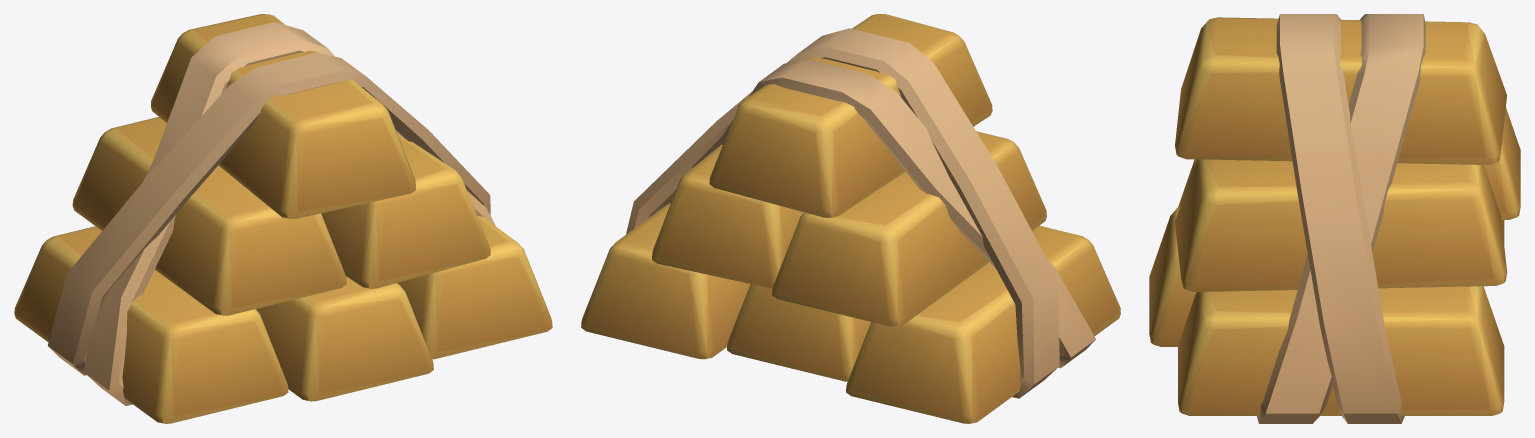
File: gold-bars.glb
3 views of the same model, side by side, from view 1: azimuth 30°, elevation 25°; view 2: azimuth 150°, elevation 25°; view 3: azimuth 270°, elevation 25° (orthographic). The views are drawn at different scales.
Visible parts, largest first — view 1: Gold_Bars; view 2: Gold_Bars; view 3: Gold_Bars.
Part boxes in pixels (x1,y1,x2,y2): Gold_Bars: [14, 14, 552, 423]; Gold_Bars: [581, 14, 1120, 423]; Gold_Bars: [1149, 14, 1520, 423].
Bounding box in the file's own units: 1.27 × 0.7897 × 0.9106.
Materials: 1 (1 with a texture image).
